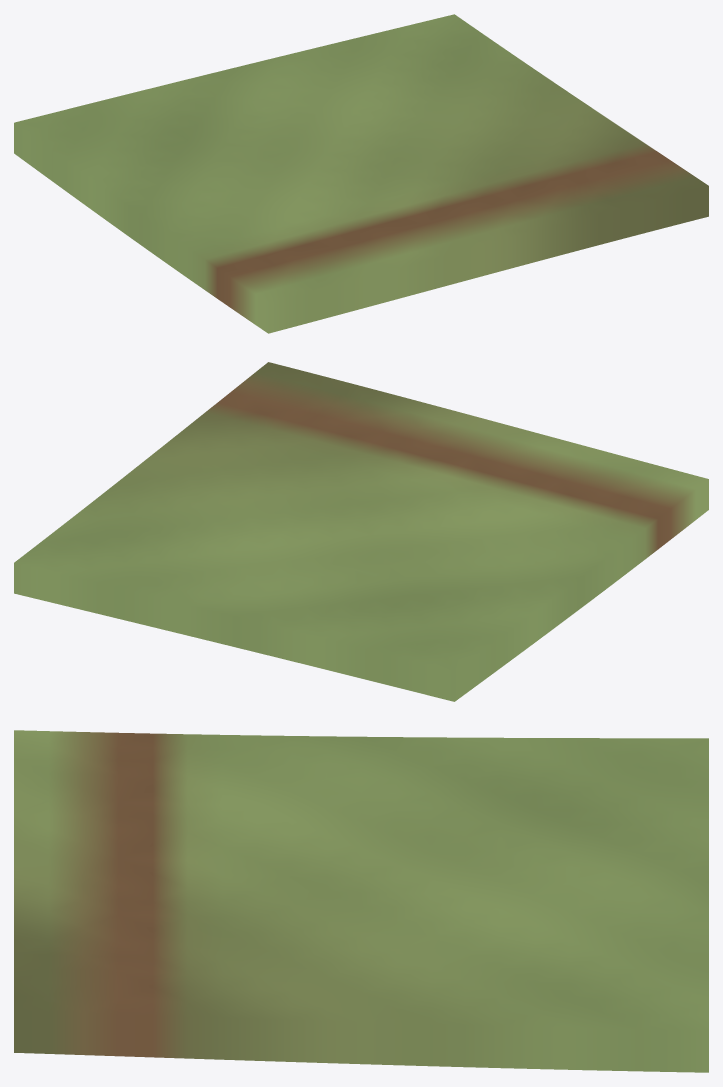
3 renders of one model, top to bottom at view 1: azimuth 30°, elevation 25°; view 2: azimuth 150°, elevation 25°; view 3: azimuth 270°, elevation 25°, orthographic. The views are drawn at different scales.
Visible parts, largest first — view 1: terrain; view 2: terrain; view 3: terrain.
Part boxes in pixels (x1,y1,x2,y2): terrain: [14, 14, 708, 333]; terrain: [14, 362, 708, 701]; terrain: [14, 730, 708, 1072].
Size of the model in its own units: 30 by 3.01 by 30.
